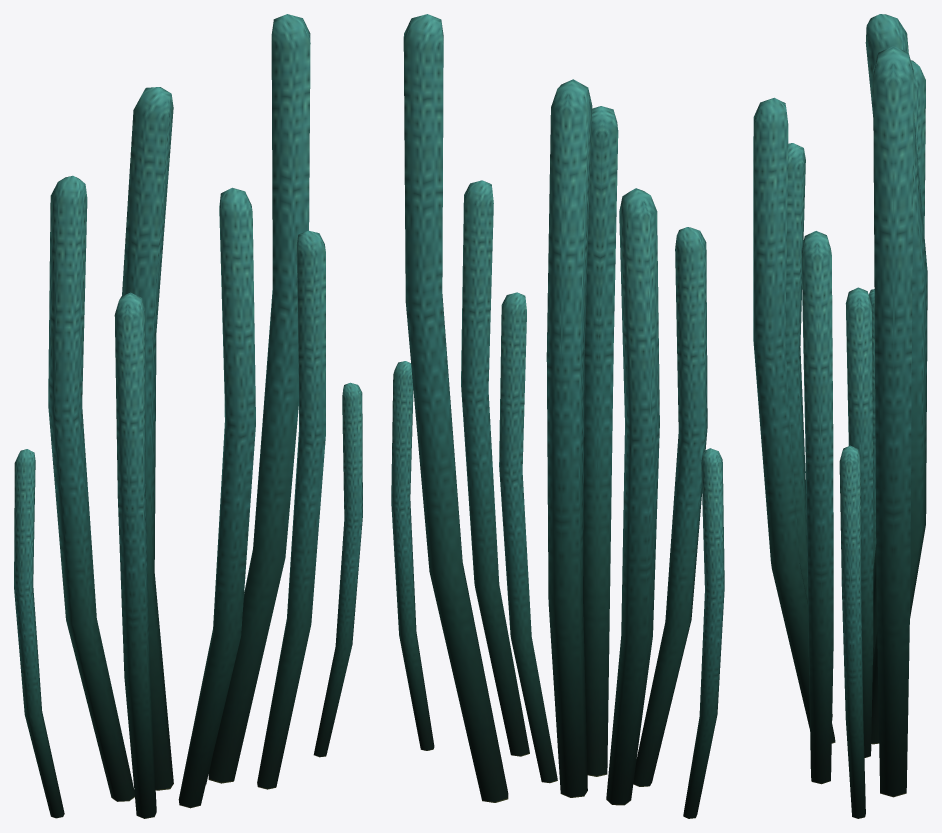
File: Coral_38c.FBX
3 renders of one model, left to right at view 1: azimuth 30°, elevation 25°; view 2: azimuth 150°, elevation 25°; view 3: azimuth 270°, elevation 25°, orthographic. The views are drawn at different scales.
Parts seen in each view (by area): view 1: Coral_38c; view 2: Coral_38c; view 3: Coral_38c.
Boxes of the visible parts, x1,y1,x2,y2 form: Coral_38c: (14, 14, 362, 818); Coral_38c: (391, 14, 724, 818); Coral_38c: (753, 14, 927, 818).
Size of the model in its own units: 37.08 by 79.1 by 16.07.
